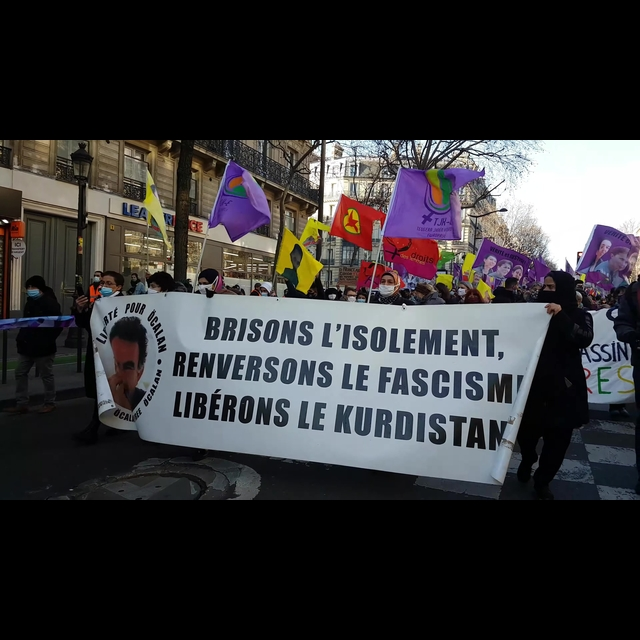PKK: (341, 204, 364, 237)
